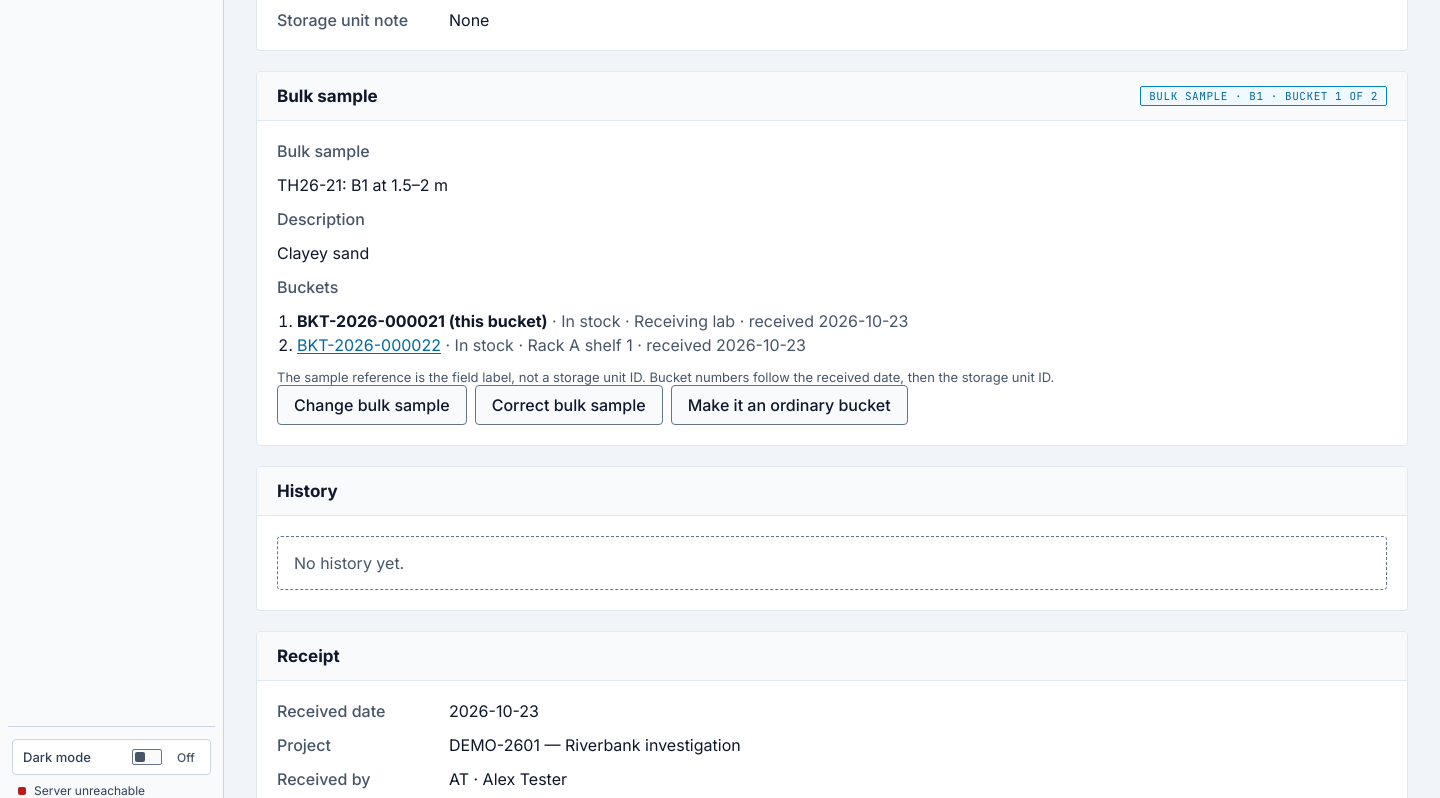
Scenario: MM-T36 Sample Storage › moves this bucket to another bulk sample with a reason
The width and height of the screenshot is (1440, 798).
(page scrolled)
Click the button "Change bulk sample": (372, 405) [277,385,467,425]
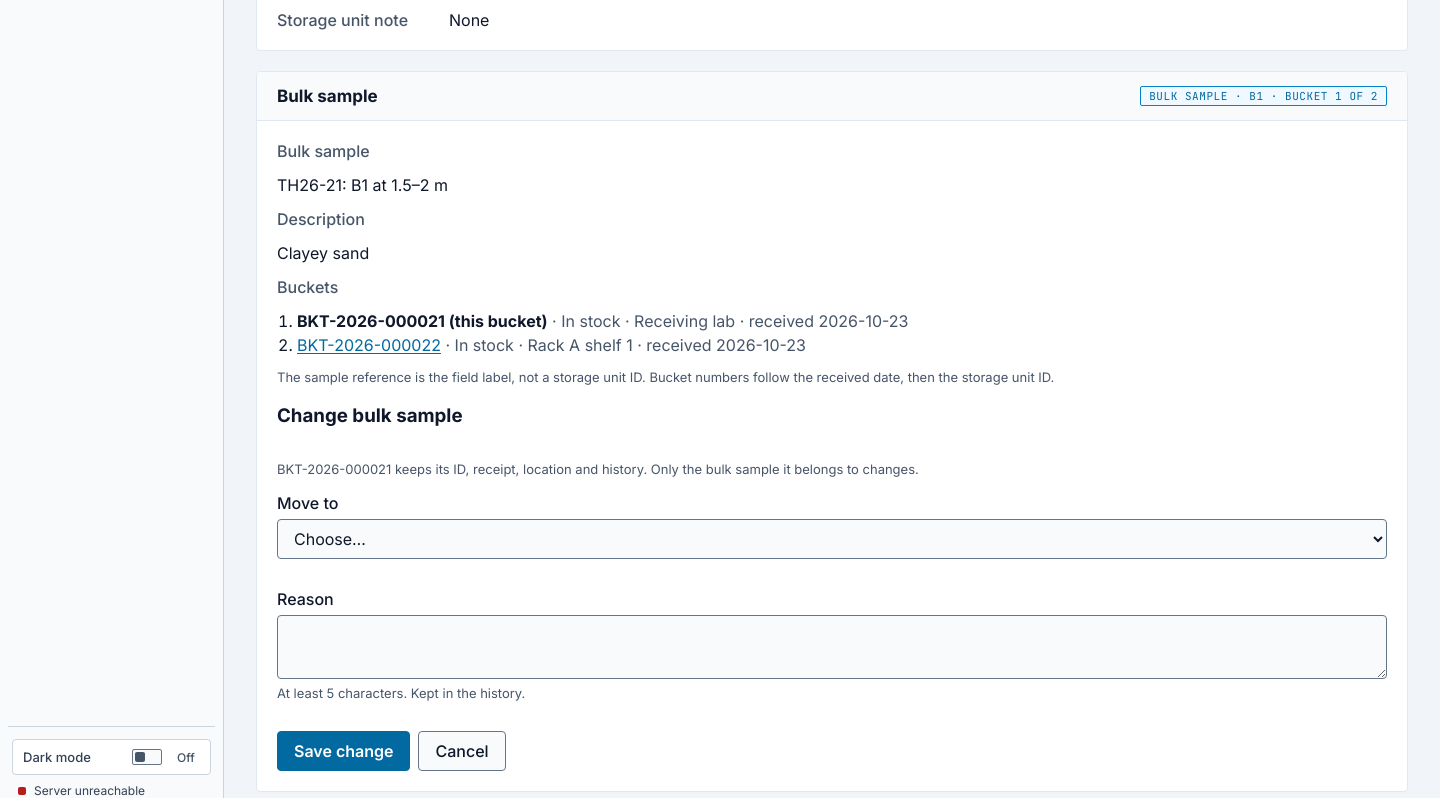
Select "Stockpile 2 · B1 · 0.5 m — 1 bucket so far" in the dropdown labelled "Move to": (832, 539) [277,519,1387,559]
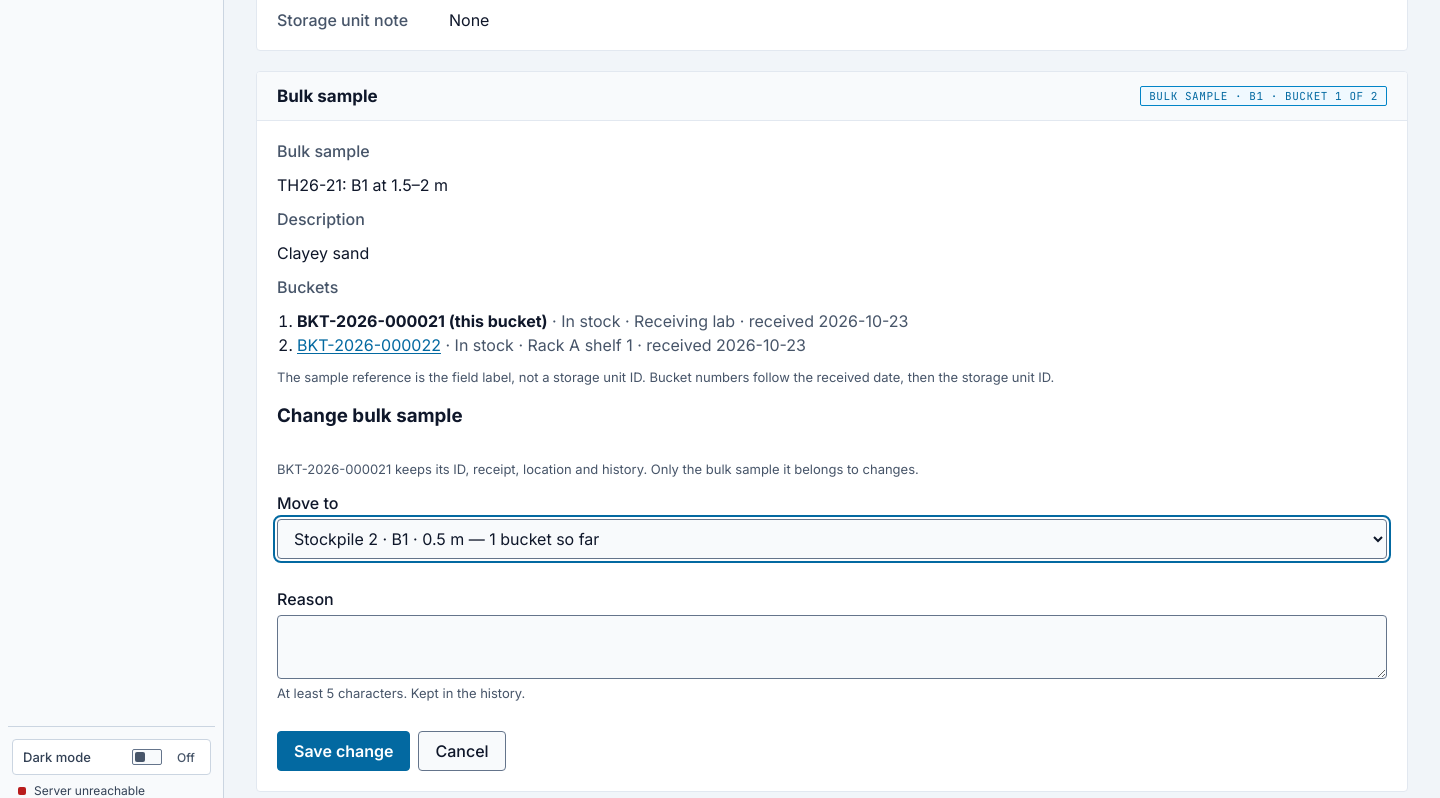
In the text box labelled "Reason": (832, 647) [277,615,1387,679], type "Wrong pail chosen at receipt"
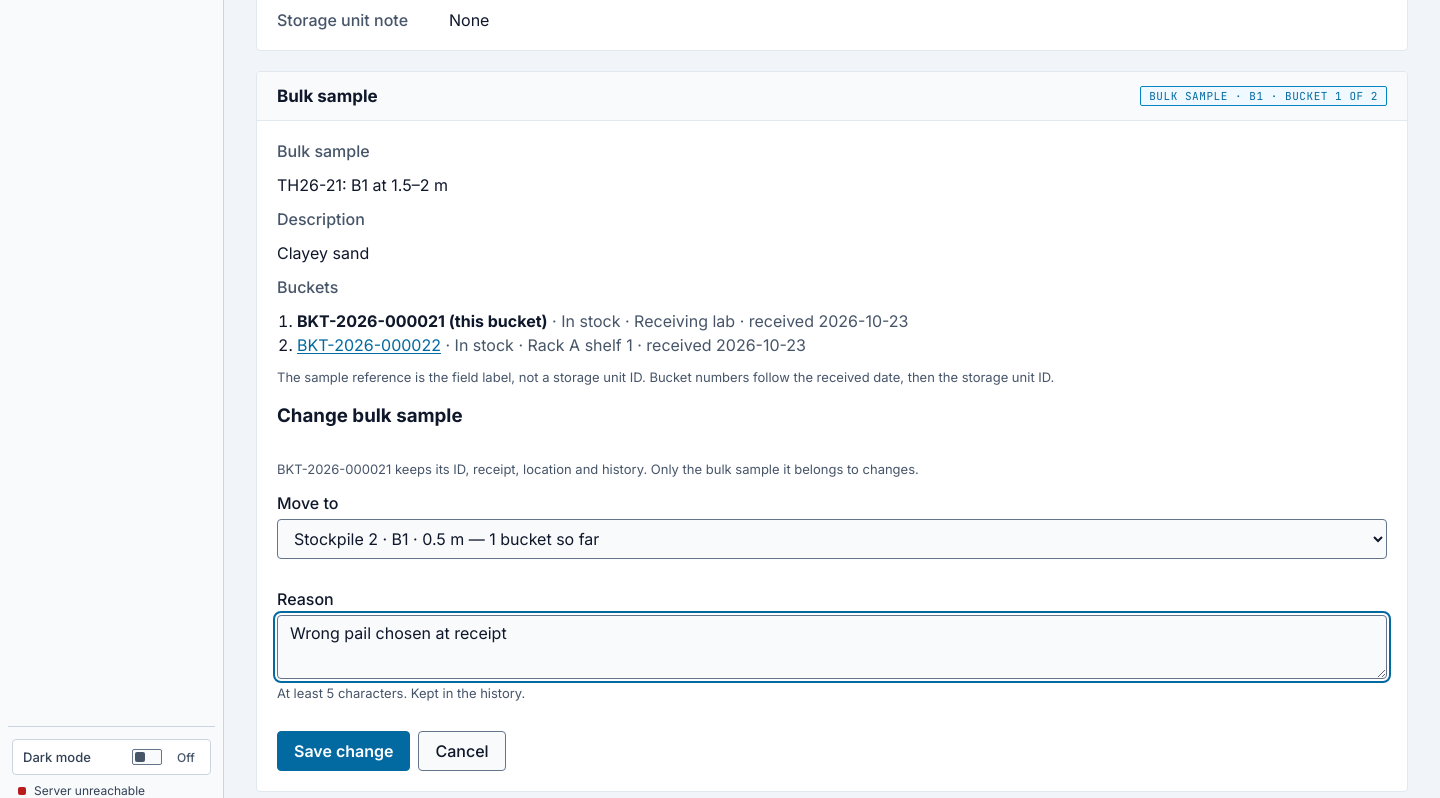
Click the button "Save change": (344, 751) [277,731,410,771]
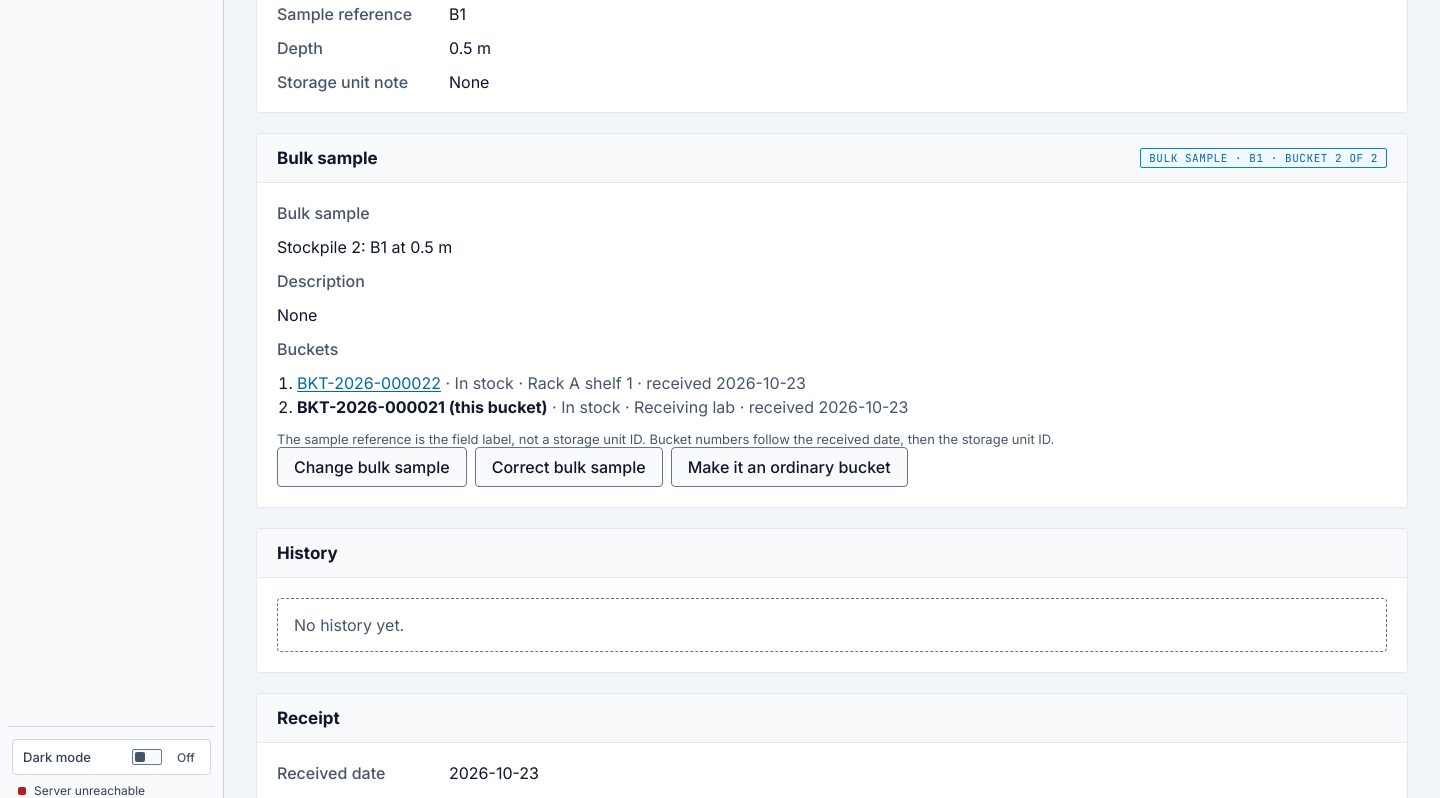
Now the text "Bulk sample · B1 · bucket 2 of 2" is shown, box [1140,148,1387,168]
